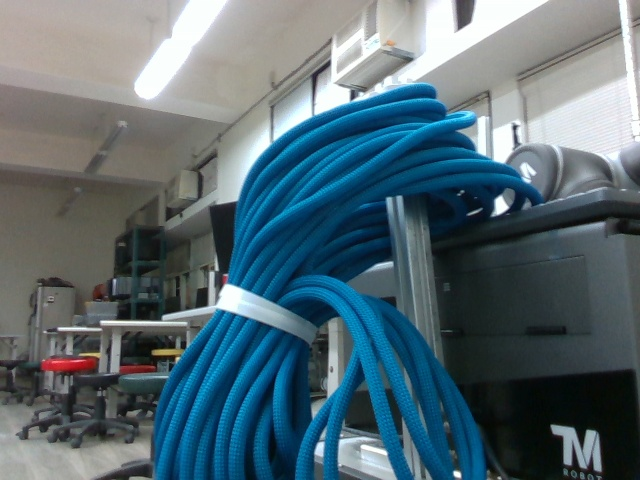rope: (143, 79, 482, 480)
